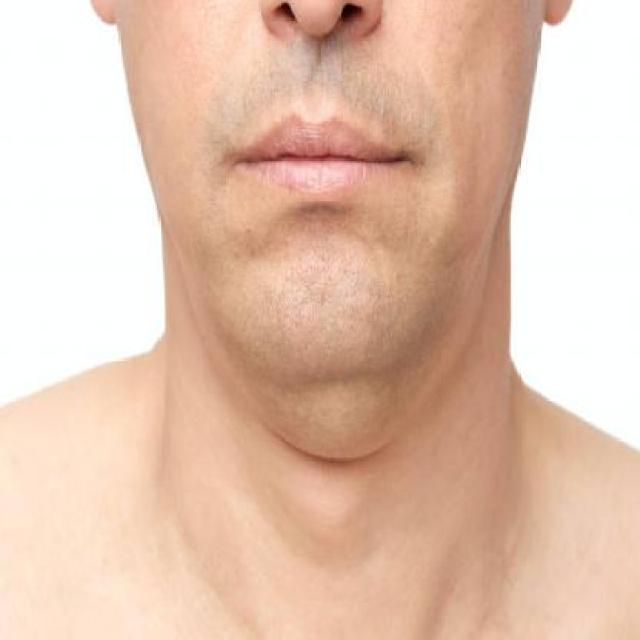Healthy: (168, 289, 504, 627)
